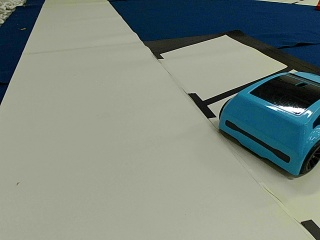car: (219, 67, 319, 178)
